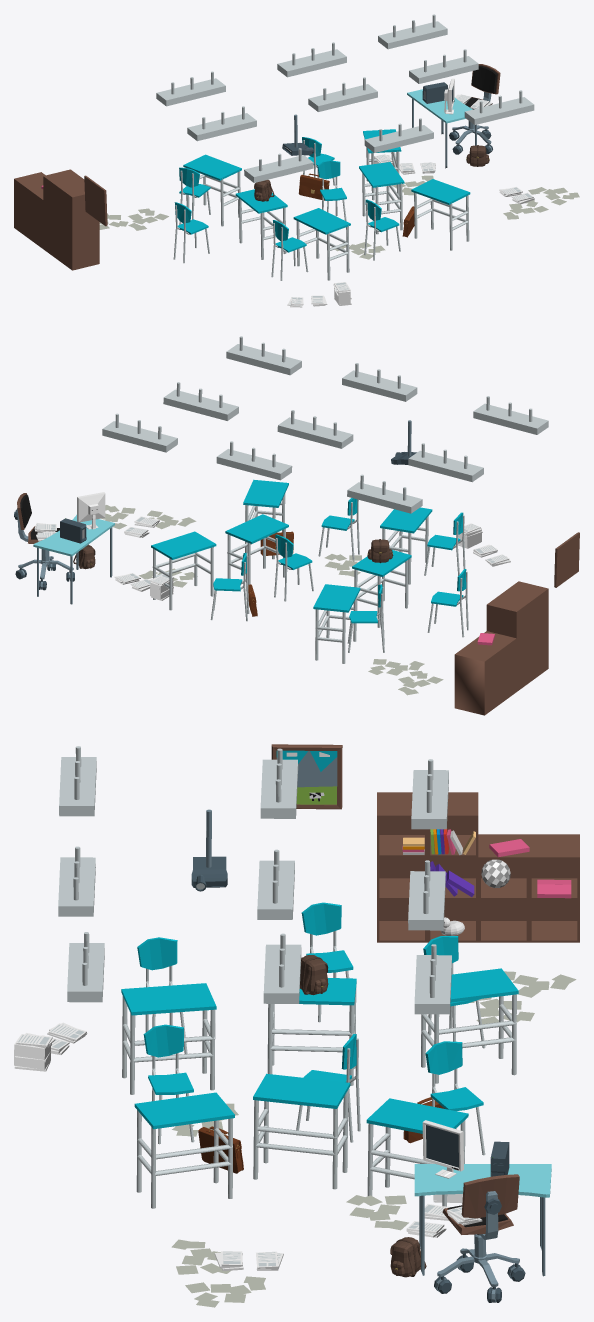
File: room 3.glb
3 renders of one model, top to bottom at view 1: azimuth 30°, elevation 25°; view 2: azimuth 150°, elevation 25°; view 3: azimuth 270°, elevation 25°, orthographic. The views are drawn at different scales.
Parts seen in each view (by area): view 1: group1192281077, group507699581, group1586682540, group134928402, group1150992297, group1057097951, group300508059, group629326721, group812101420, group1631708059, group2020093838, group224139402 (+16 smaller); view 2: group1192281077, group973485231, group134928402, group1150992297, group1057097951, group1586682540, group507699581, group826957035, group1631708059, group300508059, group856701084, group224139402 (+13 smaller); view 3: group1192281077, group507699581, group134928402, group1586682540, group973485231, group1150992297, group1057097951, group826957035, group711215999, group1254331562, group856701084, group812101420 (+20 smaller).
Boxes of the visible parts, bbox=[...] form: group1192281077: bbox=[14, 169, 99, 270]; group507699581: bbox=[364, 179, 470, 260]; group1586682540: bbox=[271, 208, 350, 280]; group134928402: bbox=[317, 160, 404, 234]; group1150992297: bbox=[179, 154, 241, 226]; group1057097951: bbox=[173, 189, 287, 263]; group300508059: bbox=[464, 90, 534, 124]; group629326721: bbox=[364, 118, 433, 152]; group812101420: bbox=[156, 71, 225, 106]; group1631708059: bbox=[244, 148, 313, 182]; group2020093838: bbox=[277, 42, 346, 77]; group224139402: bbox=[308, 77, 377, 111]; group1192281077: bbox=[454, 581, 548, 715]; group973485231: bbox=[151, 531, 249, 621]; group134928402: bbox=[225, 514, 313, 601]; group1150992297: bbox=[313, 584, 384, 663]; group1057097951: bbox=[352, 550, 468, 637]; group1586682540: bbox=[380, 507, 465, 584]; group507699581: bbox=[243, 479, 359, 561]; group826957035: bbox=[33, 514, 114, 604]; group1631708059: bbox=[473, 396, 548, 434]; group300508059: bbox=[226, 336, 301, 375]; group856701084: bbox=[408, 443, 483, 482]; group224139402: bbox=[277, 410, 353, 448]; group1192281077: bbox=[377, 792, 579, 942]; group507699581: bbox=[134, 1024, 234, 1208]; group134928402: bbox=[253, 1034, 360, 1189]; group1586682540: bbox=[121, 937, 216, 1094]; group973485231: bbox=[366, 1041, 485, 1206]; group1150992297: bbox=[421, 936, 518, 1083]; group1057097951: bbox=[267, 902, 356, 1085]; group826957035: bbox=[414, 1164, 551, 1276]; group711215999: bbox=[271, 744, 342, 809]; group1254331562: bbox=[263, 933, 301, 1003]; group856701084: bbox=[260, 748, 298, 818]; group812101420: bbox=[411, 759, 448, 829].
Bounding box in the file's own units: 3.34 × 1.11 × 2.06.
